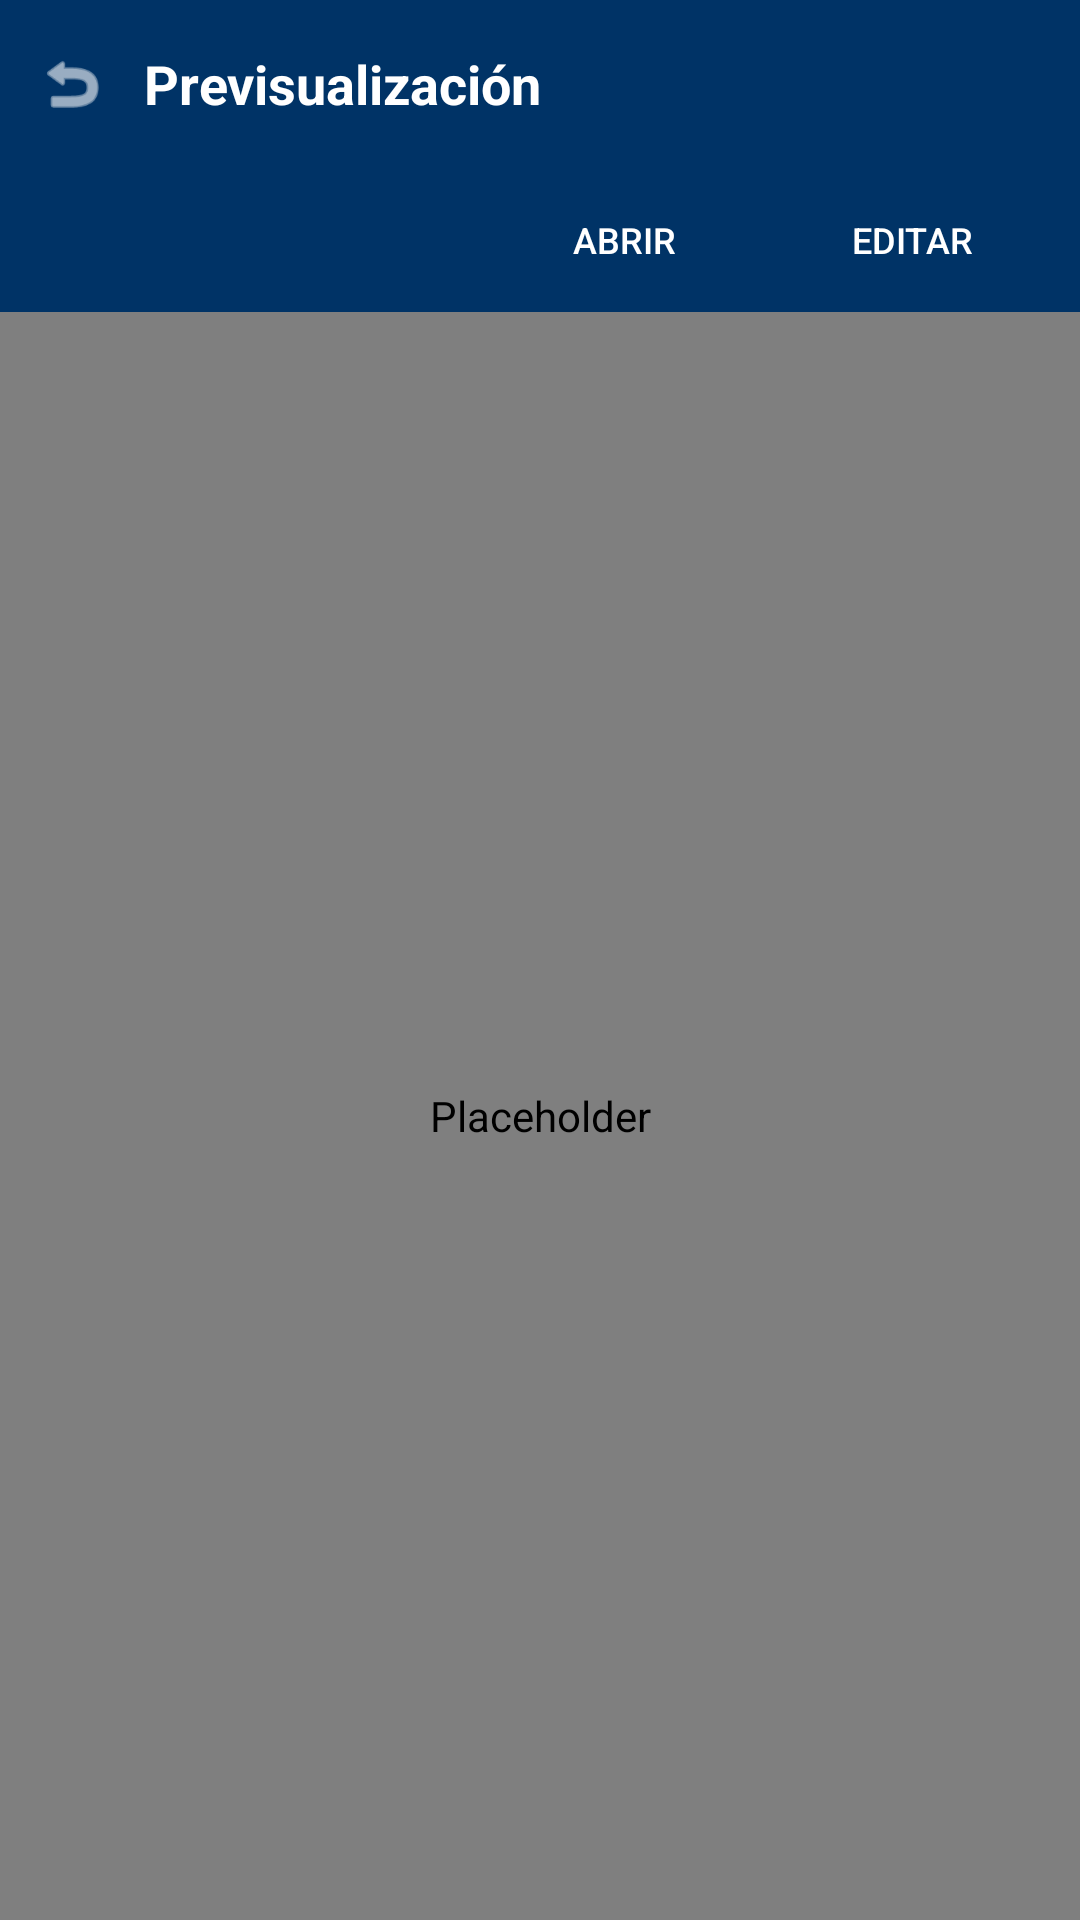

Screen size 1080×1920. Icon name, then its box in pixels as (x1, y1, x2, y2):
revert: (47, 61, 99, 108)
